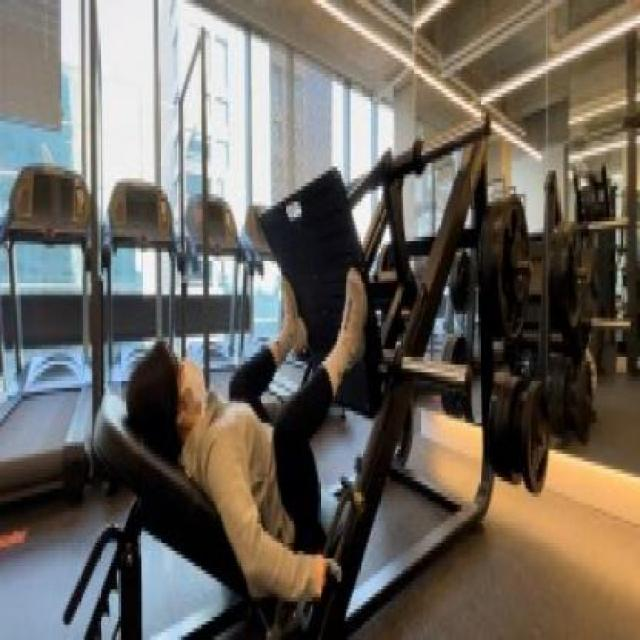leg press: (57, 100, 566, 640)
